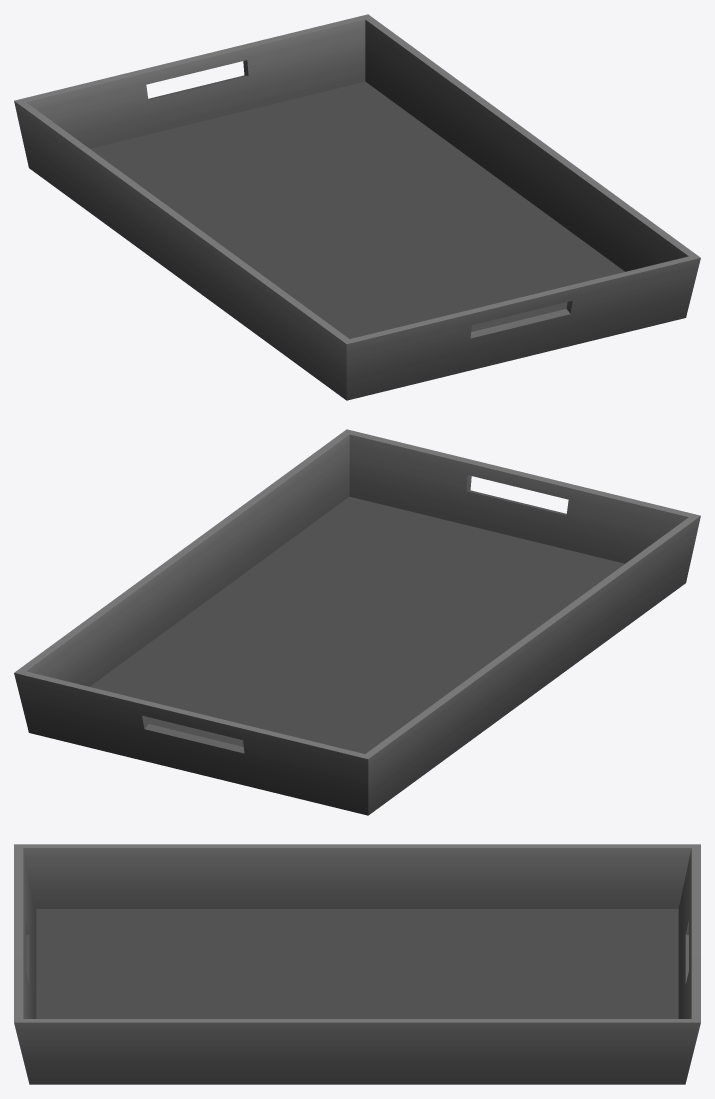
File: FoodProp_4_1_D.fbx
The picture shows the model from 3 angles, top to bottom: view 1: azimuth 30°, elevation 25°; view 2: azimuth 150°, elevation 25°; view 3: azimuth 270°, elevation 25°; orthographic projection. The views are drawn at different scales.
Visible parts, largest first — view 1: FoodProp_4_1_D; view 2: FoodProp_4_1_D; view 3: FoodProp_4_1_D.
Boxes of the visible parts, x1,y1,x2,y2 form: FoodProp_4_1_D: (14, 14, 700, 400); FoodProp_4_1_D: (14, 429, 700, 815); FoodProp_4_1_D: (14, 844, 700, 1084).
Size of the model in its own units: 37.22 by 6.4 by 60.57.
